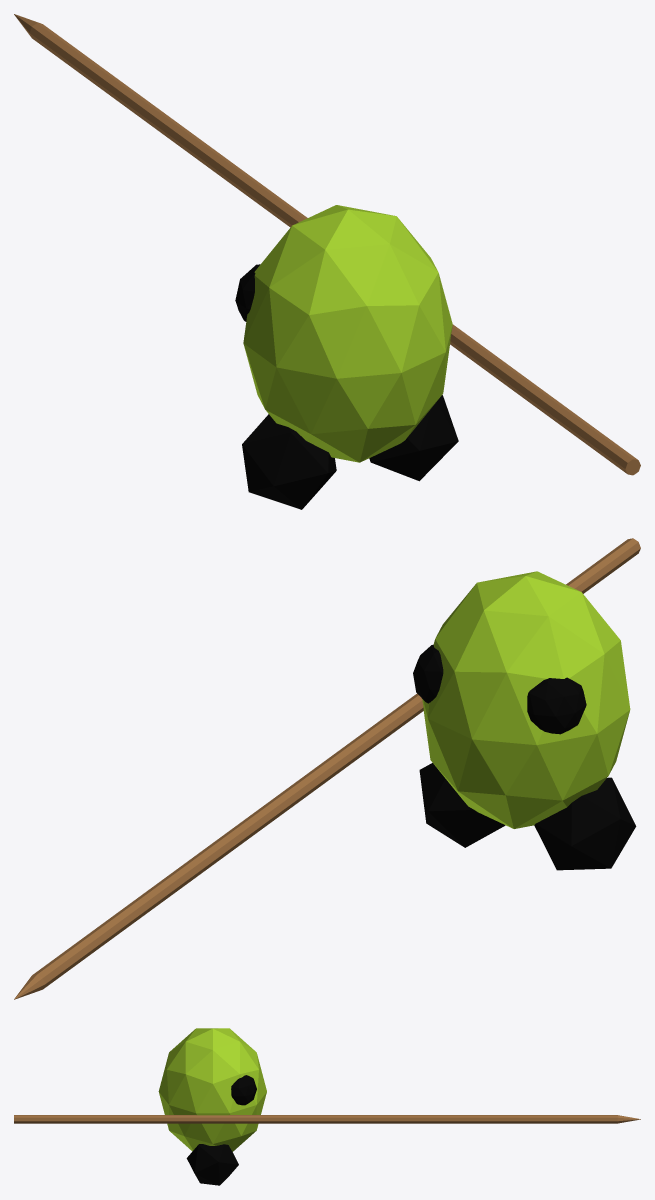
Rendered from stab.f0002.glb.
3 views of the same model, one above another, from view 1: azimuth 30°, elevation 25°; view 2: azimuth 150°, elevation 25°; view 3: azimuth 270°, elevation 25° (orthographic). The views are drawn at different scales.
Visible parts, largest first — view 1: Body.001; view 2: Body.001; view 3: Body.001.
Boxes of the visible parts, <box> form: Body.001: <box>14,14,640,509</box>; Body.001: <box>14,538,640,999</box>; Body.001: <box>14,1028,640,1185</box>.
Bounding box in the file's own units: 2.17 × 2.85 × 11.56.
Materials: 1 (1 with a texture image).
